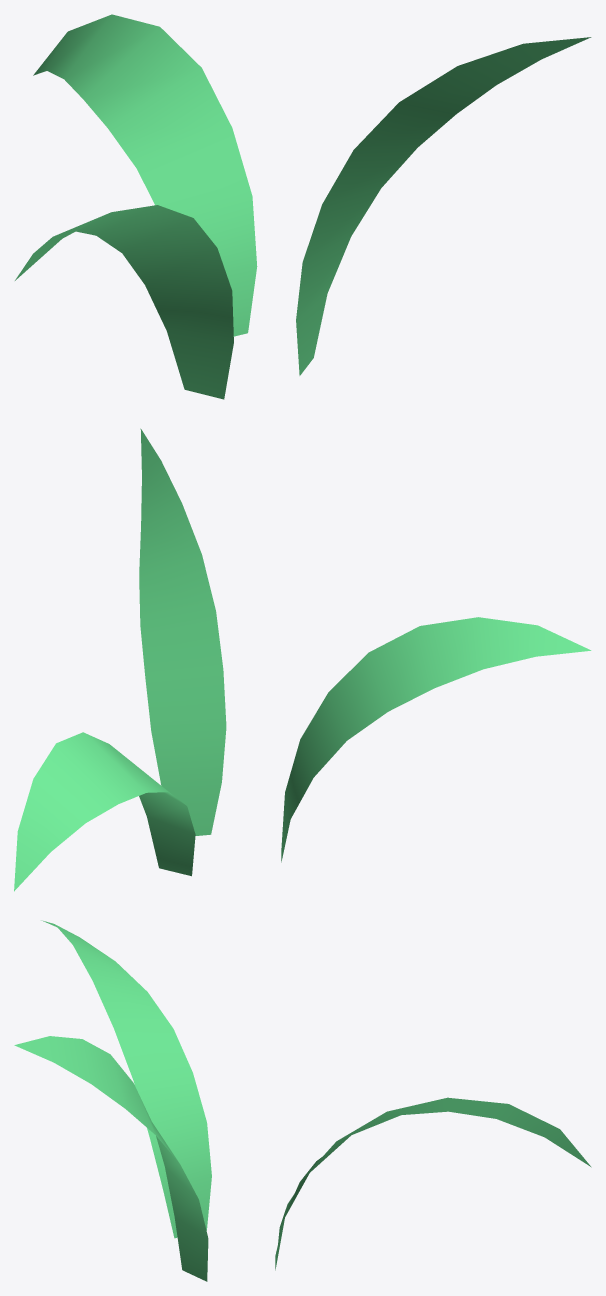
Rendered from LeafOri.fbx.
3 views of the same model, one above another, from view 1: azimuth 30°, elevation 25°; view 2: azimuth 150°, elevation 25°; view 3: azimuth 270°, elevation 25° (orthographic). The views are drawn at different scales.
Visible parts, largest first — view 1: LeafOri.012; view 2: LeafOri.012; view 3: LeafOri.012.
Boxes of the visible parts, box(x1,y1,x2,y2) form: LeafOri.012: box(15, 14, 591, 399); LeafOri.012: box(14, 428, 591, 891); LeafOri.012: box(14, 920, 591, 1281).
Size of the model in its own units: 47.9 by 30.1 by 52.61.
